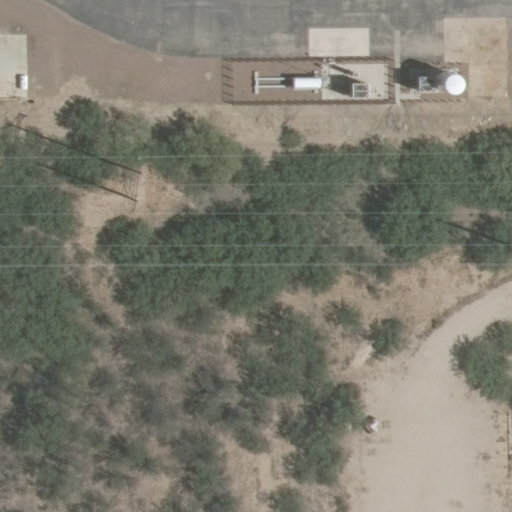DT: (5, 116, 141, 175), (9, 152, 140, 204)
